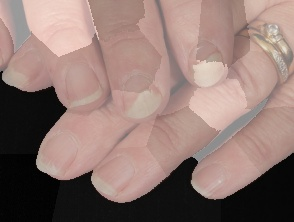Nail_psoriasis: (116, 77, 172, 131), (183, 47, 234, 95)
